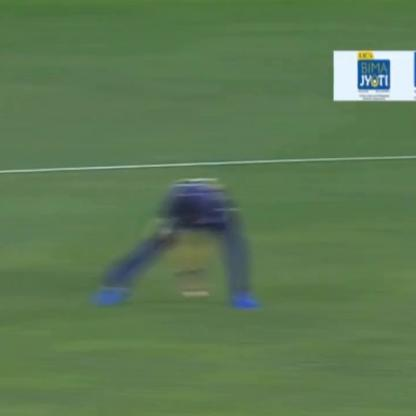ball: (197, 290, 214, 299), (179, 292, 193, 297)
